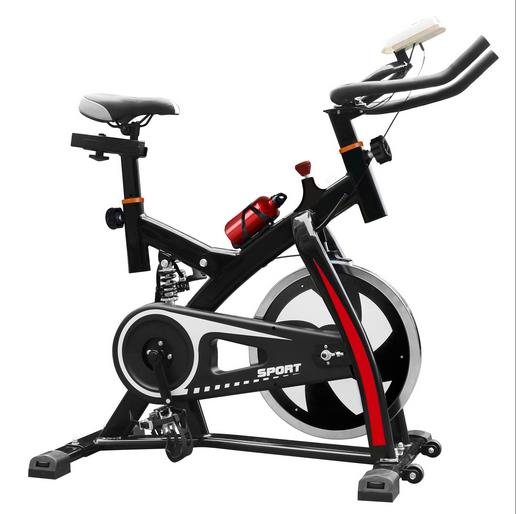gym_bike: (30, 16, 501, 505)
